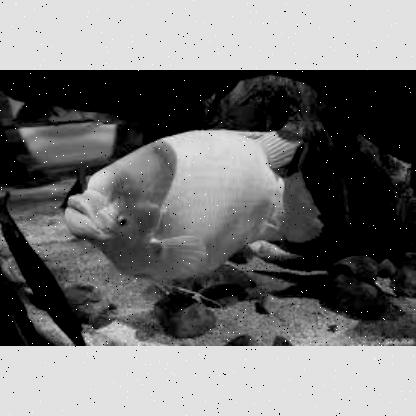gurame: (68, 130, 312, 280)
